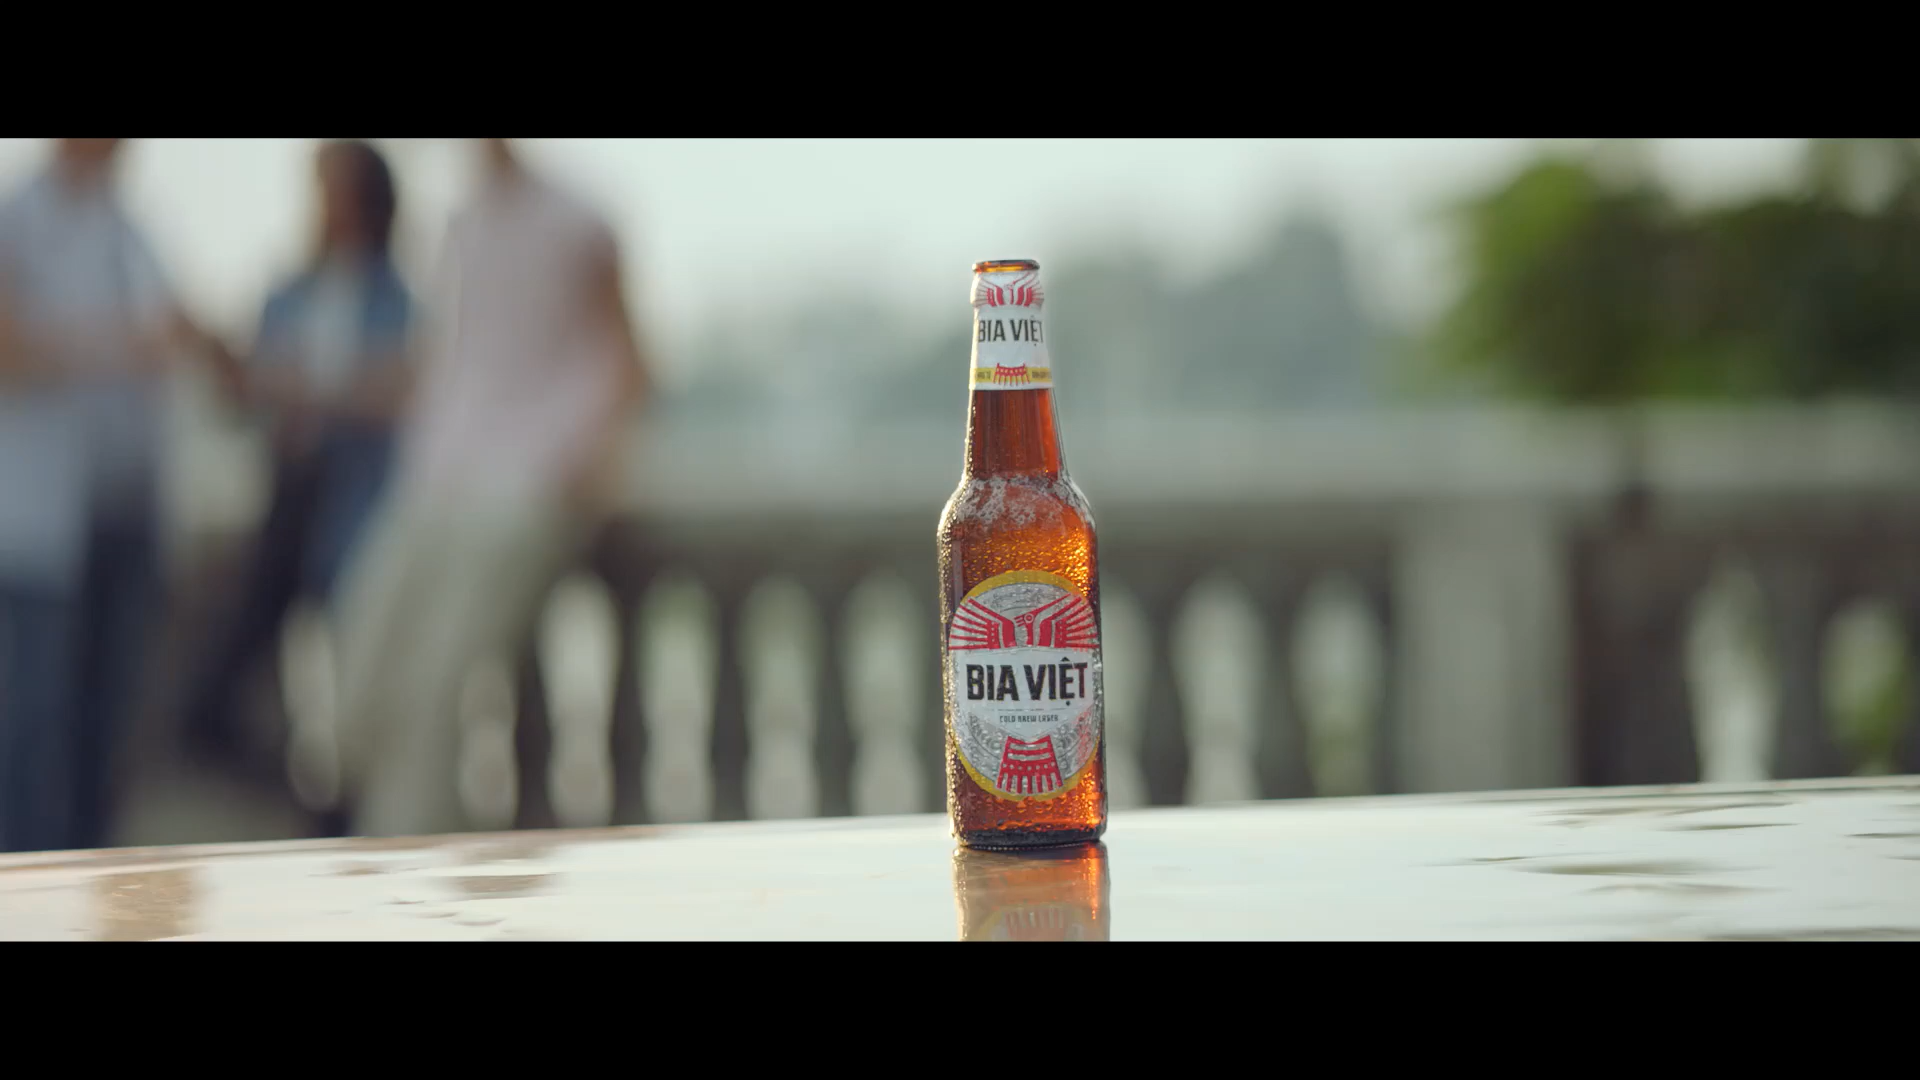biaviet: (964, 655, 1091, 711), (978, 315, 1044, 347)
